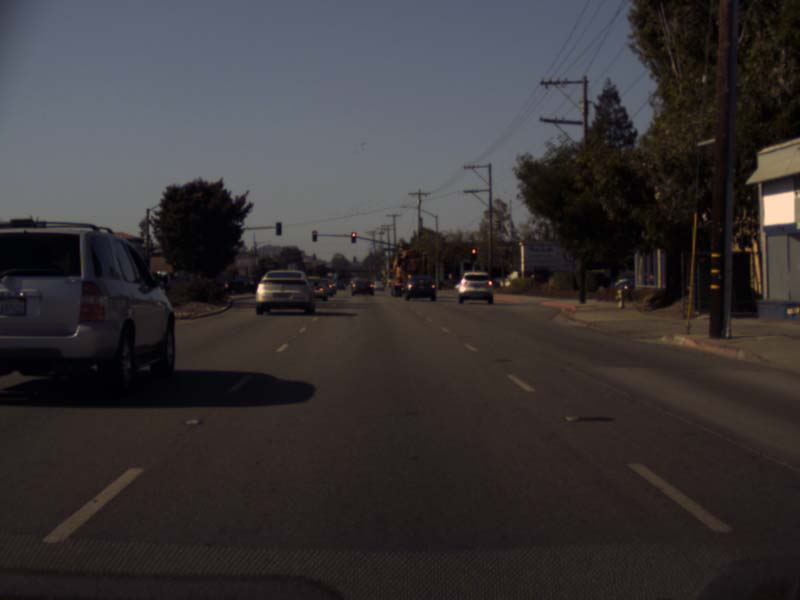Red: (469, 247, 476, 260), (350, 232, 355, 242), (312, 231, 317, 241)
